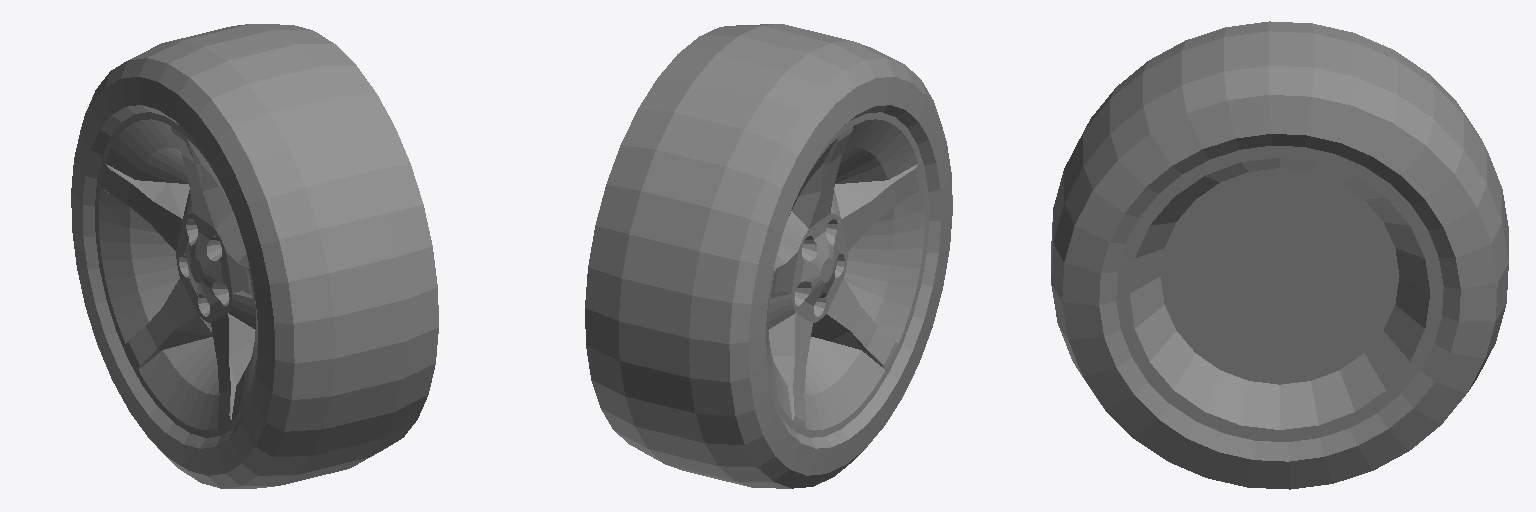
The model's file is Wheel44.obj.
The picture shows the model from 3 angles: view 1: azimuth 30°, elevation 25°; view 2: azimuth 150°, elevation 25°; view 3: azimuth 270°, elevation 25°; orthographic projection.
Visible parts, largest first — view 1: BTechFix; view 2: BTechFix; view 3: BTechFix.
Boxes of the visible parts, <box> form: BTechFix: <box>71,24,438,488</box>; BTechFix: <box>585,24,952,488</box>; BTechFix: <box>1051,21,1508,489</box>.
Size of the model in its own units: 35.25 by 81.69 by 81.69.